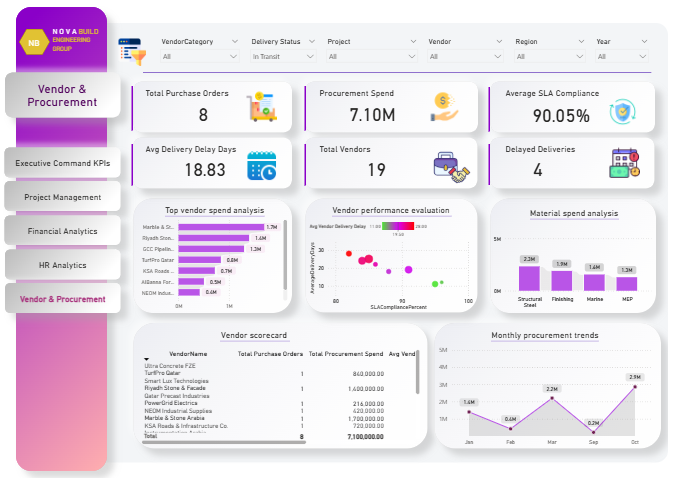

This screenshot's page, from the dashboard's own definition file:
{"tool":"powerbi","page":{"name":"Vendor & Procurement","canvas":[1380,980],"ordinal":5},"visuals":[{"type":"shape","box":[63.9,68.1,61.9,51.5],"z":0,"group":"g1"},{"type":"cardVisual","fields":{"Data":["Measures Table.Total Purchase Orders"]},"box":[283.3,172.9,299,104.2],"z":0},{"type":"textbox","box":[74.2,80.4,40.2,35.1],"z":1000,"group":"g1"},{"type":"cardVisual","fields":{"Data":["Measures Table.Total Procurement Spend"]},"box":[630.2,172.9,281.2,104.2],"z":1000},{"type":"textbox","box":[125.8,58.8,121.6,60.8],"z":2000,"group":"g1"},{"type":"cardVisual","fields":{"Data":["Measures Table.Vendor Count"]},"box":[630.2,288.5,297.9,99],"z":2000},{"type":"cardVisual","fields":{"Data":["Measures Table.Delayed Deliveries"]},"box":[997.9,288.5,208.3,97.9],"z":3000},{"type":"cardVisual","fields":{"Data":["Measures Table.Avg SLA Compliance"]},"box":[998.6,173.6,301.4,104.2],"z":4000},{"type":"cardVisual","fields":{"Data":["Measures Table.Avg Vendor Delivery Delay"]},"box":[283.3,288.5,303.1,99],"z":5000},{"type":"barChart","fields":{"Category":["DimVendor.VendorName"],"Y":["Measures Table.Total Procurement Spend"]},"box":[292.7,436.5,313.5,200],"z":6000},{"type":"scatterChart","fields":{"X":["DimVendor.SLACompliancePercent"],"Y":["DimVendor.AverageDeliveryDays"],"Size":["Measures Table.Total Procurement Spend"]},"box":[640.9,446.1,336.5,188.7],"z":7000},{"type":"columnChart","fields":{"Category":["DimMaterialCategory.MaterialCategory"],"Y":["Measures Table.Total Material Cost"]},"box":[1008.2,445.9,326.2,188.5],"z":8000},{"type":"pivotTable","fields":{"Rows":["DimVendor.VendorName"],"Values":["Measures Table.Total Purchase Orders","Measures Table.Total Procurement Spend","Measures Table.Avg Vendor Delivery Delay","Measures Table.Avg SLA Compliance"]},"box":[303.3,704.9,567.2,200],"z":9000},{"type":"lineChart","fields":{"Category":["DimDate.MonthShort"],"Y":["Measures Table.Total Procurement Spend"]},"box":[898,696,436.4,212.1],"z":10000},{"type":"pageNavigator","box":[35.9,305.4,231.5,331.5],"z":11000},{"type":"textbox","box":[34.4,168.9,232.8,82],"z":12000},{"type":"shape","box":[356.2,417.7,199,49],"z":13000},{"type":"textbox","box":[303.1,413.5,303.1,33.3],"z":14000},{"type":"textbox","box":[311.5,180.2,200,33.3],"z":15000},{"type":"textbox","box":[659.4,180.2,200,33.3],"z":16000},{"type":"textbox","box":[1031.2,180.2,200,33.3],"z":17000},{"type":"textbox","box":[311.5,292.7,200,33.3],"z":18000},{"type":"textbox","box":[659.4,292.7,200,33.3],"z":19000},{"type":"textbox","box":[1031.2,292.7,200,33.3],"z":20000},{"type":"textbox","box":[640.9,413.9,336.5,33],"z":21000},{"type":"shape","box":[689.6,417.4,239.1,48.7],"z":22000},{"type":"textbox","box":[1008.1,420.2,332.3,32.3],"z":23000},{"type":"shape","box":[1086.9,423.2,177.8,48.5],"z":24000},{"type":"shape","box":[1008.1,667.7,215.2,48.5],"z":25000},{"type":"textbox","box":[949.5,663.6,332.3,32.3],"z":26000},{"type":"textbox","box":[367.7,663.6,332.3,32.3],"z":27000},{"type":"shape","box":[465.7,667.7,140.4,48.5],"z":28000},{"type":"image","box":[256.8,83,68.2,64.8],"z":29000},{"type":"group","id":"g1","title":"Group 3","box":[63.9,58.8,183.5,60.8],"z":30000},{"type":"shape","box":[311.7,140,1016.7,30],"z":31000},{"type":"slicer","fields":{"Values":["DimDate.Year"]},"box":[1206.9,79.2,127.8,61.1],"z":32000},{"type":"slicer","fields":{"Values":["DimRegion.Region"]},"box":[1043.1,79.2,163.9,61.1],"z":33000},{"type":"slicer","fields":{"Values":["DimVendor.VendorName"]},"box":[869.4,80.6,173.6,61.1],"z":34000},{"type":"slicer","fields":{"Values":["DimProjects.ProjectName"]},"box":[668.1,80.6,204.2,61.1],"z":35000},{"type":"slicer","fields":{"Values":["DimVendor.VendorCategory"]},"box":[336.1,79.2,179.2,61.1],"z":36000},{"type":"slicer","fields":{"Values":["FactPurchaseOrder.DeliveryStatus"]},"box":[515.3,80.6,152.8,61.1],"z":37000},{"type":"image","box":[505.6,188.9,86.1,70.8],"z":38000},{"type":"image","box":[872.2,188.9,86.1,70.8],"z":39000},{"type":"image","box":[1227.8,197.2,86.1,70.8],"z":40000},{"type":"image","box":[505.6,305.6,86.1,70.8],"z":41000},{"type":"image","box":[875,301.4,108.3,86.1],"z":42000},{"type":"image","box":[1231.9,300,86.1,70.8],"z":43000}]}

Visuals, with their boxes on the page's 1380x980 design canvas (x1, y1, x2, y2). These are canvas units, not pixel positions in the 676x480 screenshot, which may show the page scaled, cropped or inside an application window:
shape: pyautogui.locateOnScreen(64, 68, 126, 120)
cardVisual - Measures Table.Total Purchase Orders: pyautogui.locateOnScreen(283, 173, 582, 277)
textbox: pyautogui.locateOnScreen(74, 80, 114, 116)
cardVisual - Measures Table.Total Procurement Spend: pyautogui.locateOnScreen(630, 173, 911, 277)
textbox: pyautogui.locateOnScreen(126, 59, 247, 120)
cardVisual - Measures Table.Vendor Count: pyautogui.locateOnScreen(630, 288, 928, 388)
cardVisual - Measures Table.Delayed Deliveries: pyautogui.locateOnScreen(998, 288, 1206, 386)
cardVisual - Measures Table.Avg SLA Compliance: pyautogui.locateOnScreen(999, 174, 1300, 278)
cardVisual - Measures Table.Avg Vendor Delivery Delay: pyautogui.locateOnScreen(283, 288, 586, 388)
barChart - DimVendor.VendorName x Measures Table.Total Procurement Spend: pyautogui.locateOnScreen(293, 436, 606, 636)
scatterChart - DimVendor.SLACompliancePercent x DimVendor.AverageDeliveryDays: pyautogui.locateOnScreen(641, 446, 977, 635)
columnChart - DimMaterialCategory.MaterialCategory x Measures Table.Total Material Cost: pyautogui.locateOnScreen(1008, 446, 1334, 634)
pivotTable - DimVendor.VendorName x Measures Table.Total Purchase Orders: pyautogui.locateOnScreen(303, 705, 870, 905)
lineChart - DimDate.MonthShort x Measures Table.Total Procurement Spend: pyautogui.locateOnScreen(898, 696, 1334, 908)
pageNavigator: pyautogui.locateOnScreen(36, 305, 267, 637)
textbox: pyautogui.locateOnScreen(34, 169, 267, 251)
shape: pyautogui.locateOnScreen(356, 418, 555, 467)
textbox: pyautogui.locateOnScreen(303, 414, 606, 447)
textbox: pyautogui.locateOnScreen(312, 180, 512, 214)
textbox: pyautogui.locateOnScreen(659, 180, 859, 214)
textbox: pyautogui.locateOnScreen(1031, 180, 1231, 214)
textbox: pyautogui.locateOnScreen(312, 293, 512, 326)
textbox: pyautogui.locateOnScreen(659, 293, 859, 326)
textbox: pyautogui.locateOnScreen(1031, 293, 1231, 326)
textbox: pyautogui.locateOnScreen(641, 414, 977, 447)
shape: pyautogui.locateOnScreen(690, 417, 929, 466)
textbox: pyautogui.locateOnScreen(1008, 420, 1340, 452)
shape: pyautogui.locateOnScreen(1087, 423, 1265, 472)
shape: pyautogui.locateOnScreen(1008, 668, 1223, 716)
textbox: pyautogui.locateOnScreen(950, 664, 1282, 696)
textbox: pyautogui.locateOnScreen(368, 664, 700, 696)
shape: pyautogui.locateOnScreen(466, 668, 606, 716)
image: pyautogui.locateOnScreen(257, 83, 325, 148)
"Group 3" group: pyautogui.locateOnScreen(64, 59, 247, 120)
shape: pyautogui.locateOnScreen(312, 140, 1328, 170)
slicer - DimDate.Year: pyautogui.locateOnScreen(1207, 79, 1335, 140)
slicer - DimRegion.Region: pyautogui.locateOnScreen(1043, 79, 1207, 140)
slicer - DimVendor.VendorName: pyautogui.locateOnScreen(869, 81, 1043, 142)
slicer - DimProjects.ProjectName: pyautogui.locateOnScreen(668, 81, 872, 142)
slicer - DimVendor.VendorCategory: pyautogui.locateOnScreen(336, 79, 515, 140)
slicer - FactPurchaseOrder.DeliveryStatus: pyautogui.locateOnScreen(515, 81, 668, 142)
image: pyautogui.locateOnScreen(506, 189, 592, 260)
image: pyautogui.locateOnScreen(872, 189, 958, 260)
image: pyautogui.locateOnScreen(1228, 197, 1314, 268)
image: pyautogui.locateOnScreen(506, 306, 592, 376)
image: pyautogui.locateOnScreen(875, 301, 983, 388)
image: pyautogui.locateOnScreen(1232, 300, 1318, 371)
